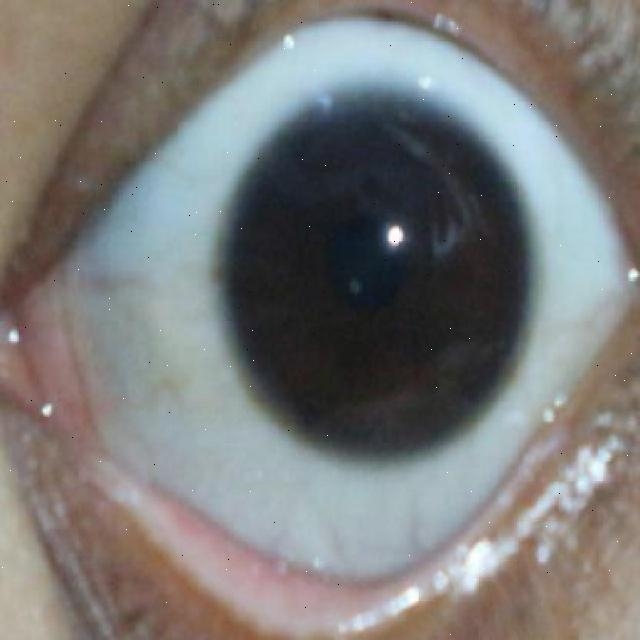Normal: (211, 83, 536, 462)
